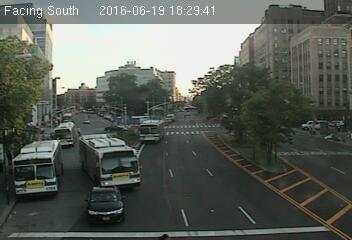neg: (85, 80, 116, 122), (38, 88, 69, 129), (37, 155, 63, 189), (202, 165, 227, 198), (256, 138, 279, 168), (146, 156, 168, 186), (305, 100, 327, 129), (77, 186, 98, 215), (208, 118, 229, 146), (94, 138, 115, 166), (119, 57, 139, 83), (48, 44, 66, 69), (160, 105, 178, 129), (225, 63, 242, 87), (259, 78, 275, 100), (286, 190, 302, 212), (306, 47, 322, 69), (169, 58, 184, 78), (276, 38, 286, 51)
